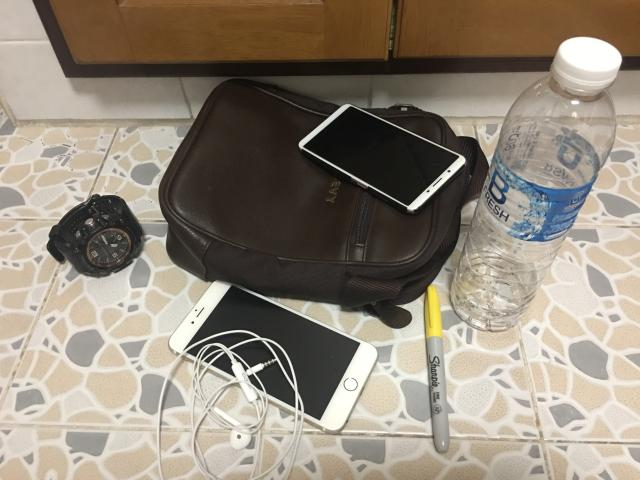Mobile phone: (169, 281, 378, 434), (299, 105, 466, 214)
Pen: (425, 285, 450, 454)
Watch: (48, 195, 142, 276)
bottle: (451, 36, 620, 331)
wire: (156, 330, 304, 479)
